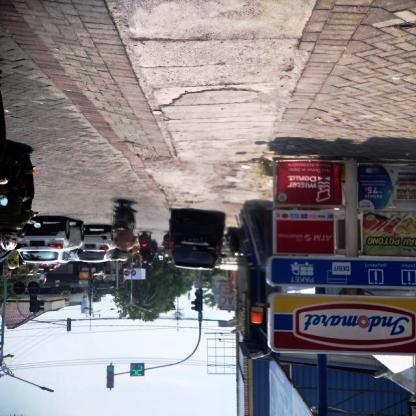Traffic Light -Green-: (28, 288, 38, 313), (193, 288, 203, 310), (106, 364, 114, 388)
